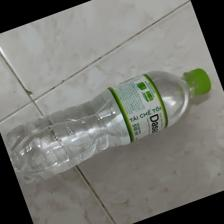Dasani: (4, 66, 213, 185)
